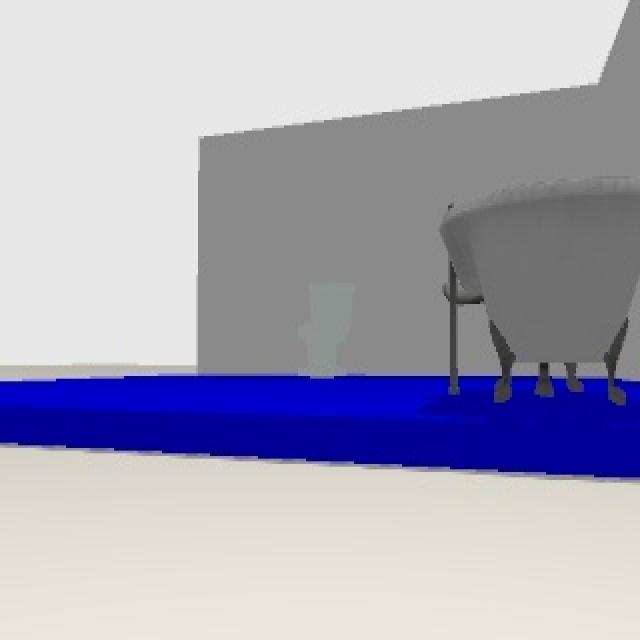bathtub: (438, 179, 638, 405)
